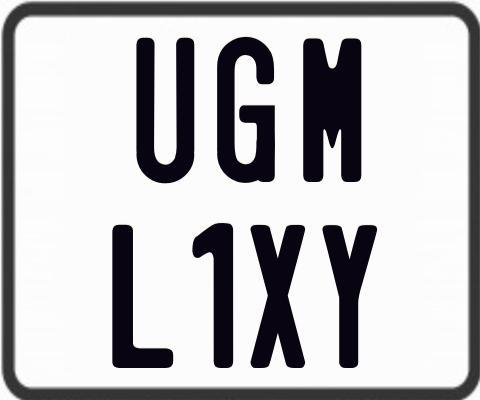1: (190, 221, 234, 367)
G: (215, 36, 278, 188)
L: (110, 225, 176, 374)
M: (300, 36, 359, 186)
U: (133, 37, 195, 188)
X: (248, 225, 307, 372)
Y: (321, 225, 379, 371)
